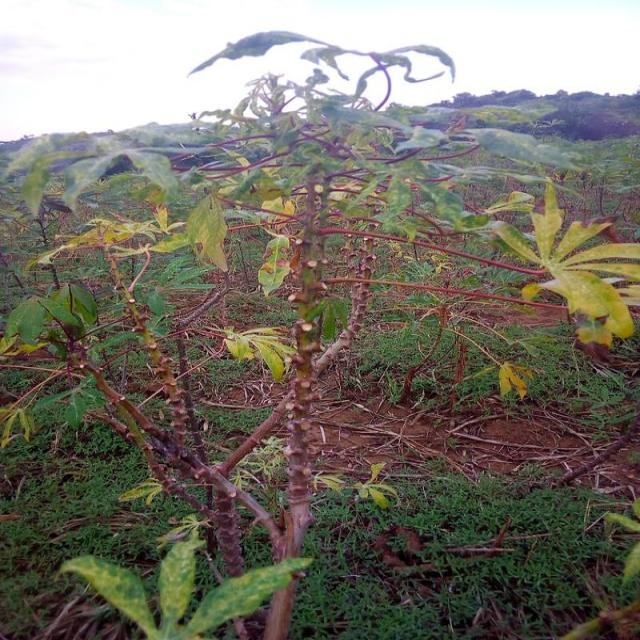cassava leaf: (489, 178, 638, 349), (185, 192, 229, 272)
